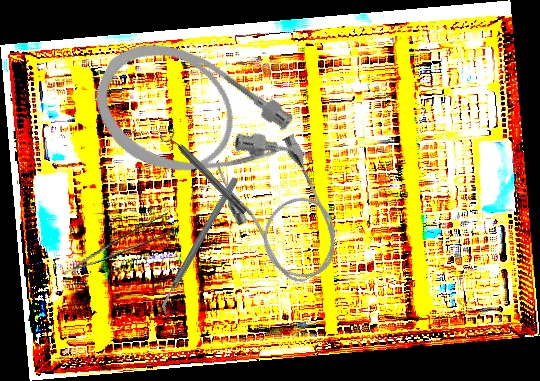Cannula: (77, 22, 328, 227), (208, 125, 354, 297)
Chopper: (121, 175, 278, 319)
Fixation Ring: (158, 124, 251, 220)
Tissue Forceps: (56, 210, 181, 276)
